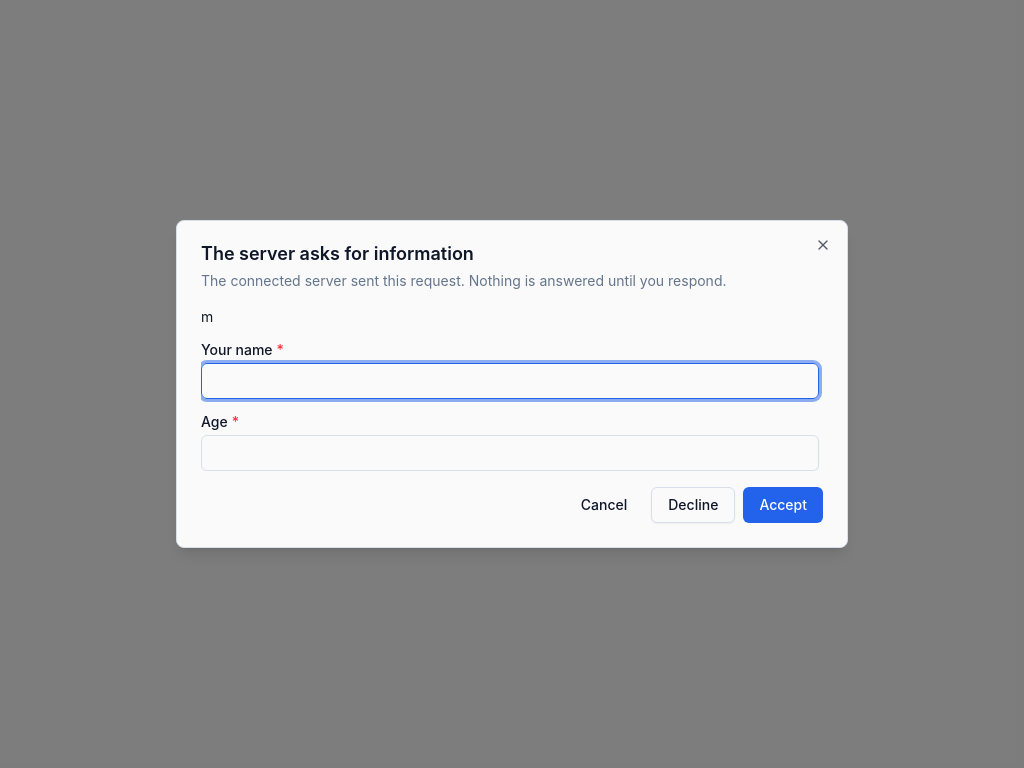
ClientFeatureHost › elicitation (form) › Accept with an invalid form is blocked and sends no response
The width and height of the screenshot is (1024, 768).
What coordinates should you click on to do the following:
click the button "Accept"
I would click on:
 (783, 505)
Its box is [743,487,823,523].
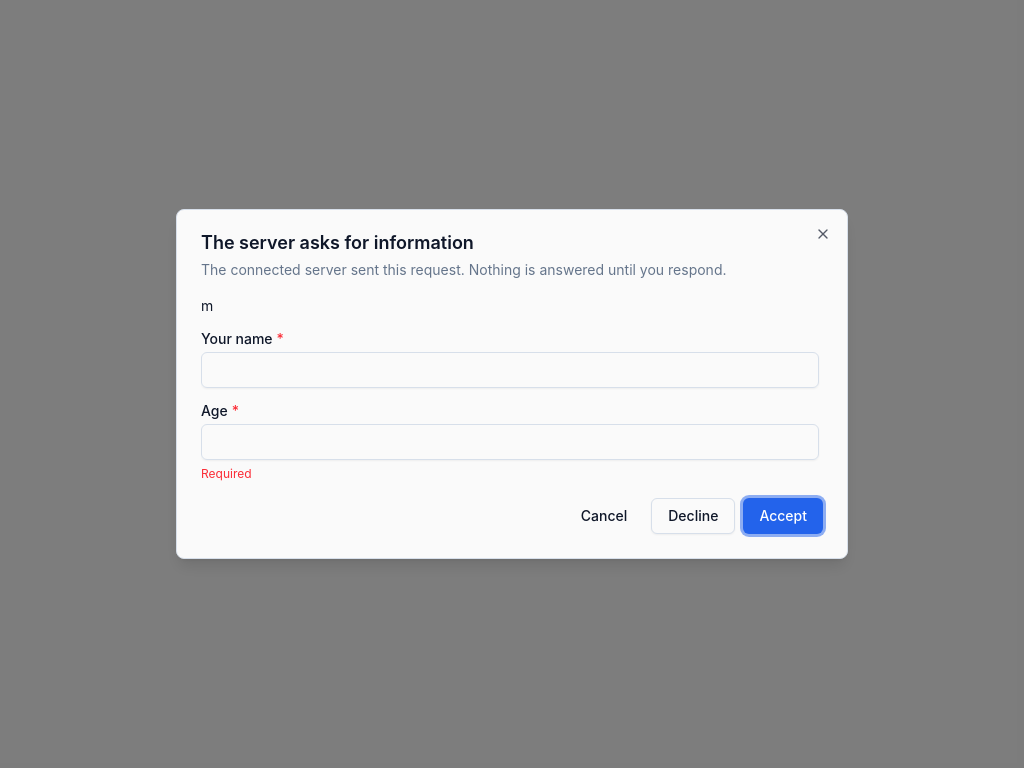
Expected: the dialog is shown, [176,209,848,559]
Expected: the text "Required" is shown, [201,466,252,481]
